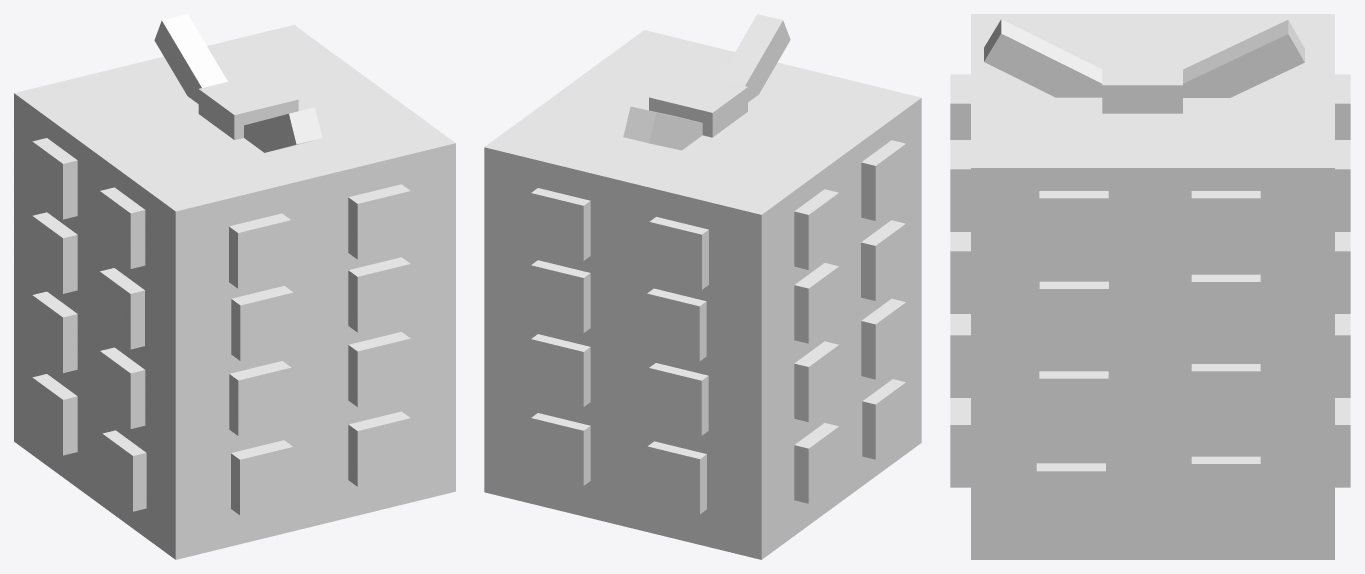
Rendered from hondew.obj.
The picture shows the model from 3 angles, left to right: view 1: azimuth 30°, elevation 25°; view 2: azimuth 150°, elevation 25°; view 3: azimuth 270°, elevation 25°; orthographic projection. The views are drawn at different scales.
Parts seen in each view (by area): view 1: Cube; view 2: Cube; view 3: Cube.
Part boxes in pixels (x1,y1,x2,y2): Cube: [14, 14, 455, 559]; Cube: [484, 14, 921, 559]; Cube: [950, 14, 1350, 559].
Size of the model in its own units: 0.3313 by 0.4264 by 0.33.
